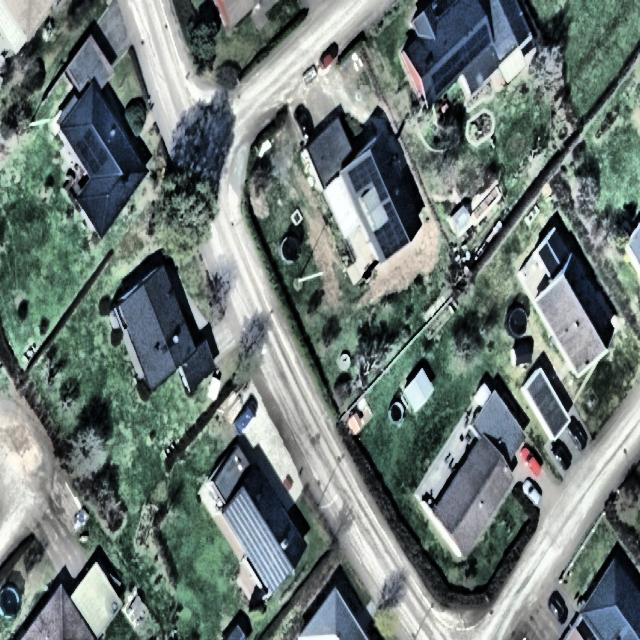roof_pv: (247, 525, 290, 596), (224, 488, 264, 543), (73, 130, 112, 176), (456, 27, 495, 68), (347, 156, 384, 186), (431, 57, 461, 93), (375, 228, 406, 258), (381, 186, 397, 208)
